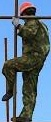boots: (11, 114, 32, 121), (1, 91, 13, 100)
gloves: (11, 15, 19, 25), (0, 117, 4, 122)
hard-hat: (19, 1, 36, 14)
ppe-suit: (0, 15, 51, 121)
